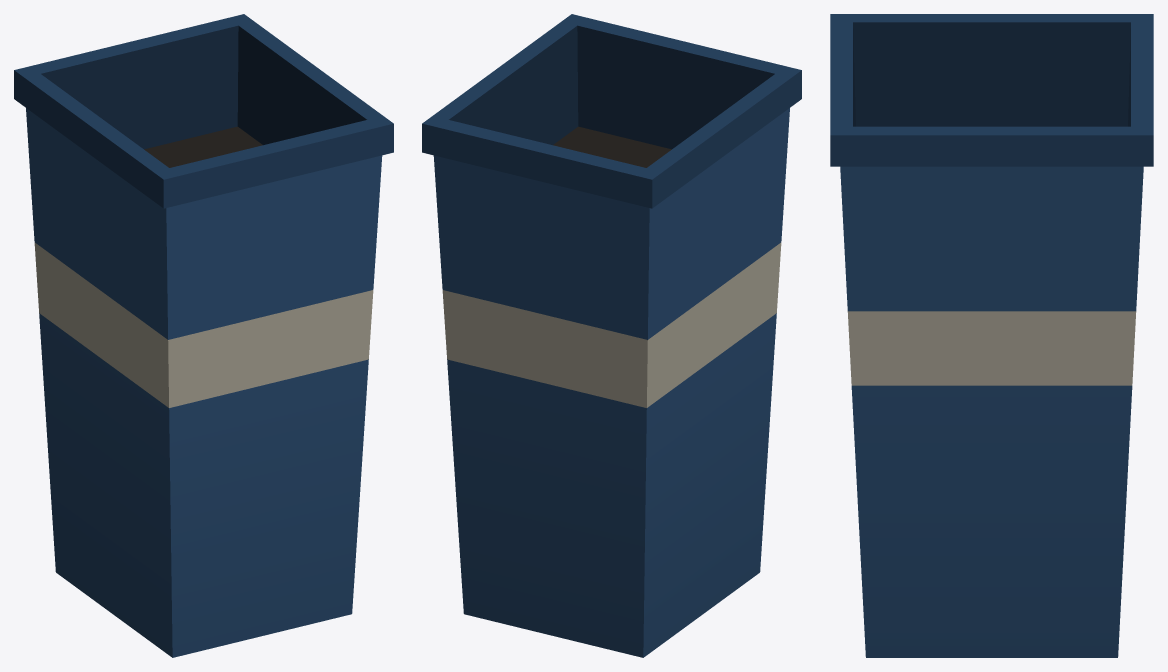
Rendered from bin.waste.blue.glb.
3 views of the same model, side by side, from view 1: azimuth 30°, elevation 25°; view 2: azimuth 150°, elevation 25°; view 3: azimuth 270°, elevation 25° (orthographic). The views are drawn at different scales.
Parts seen in each view (by area): view 1: bin_waste_blue; view 2: bin_waste_blue; view 3: bin_waste_blue.
Part boxes in pixels (x1,y1,x2,y2): bin_waste_blue: [14, 14, 393, 657]; bin_waste_blue: [422, 14, 801, 657]; bin_waste_blue: [830, 14, 1153, 657].
Size of what is drawn, in the model's own units: 0.291 by 0.6 by 0.328.
